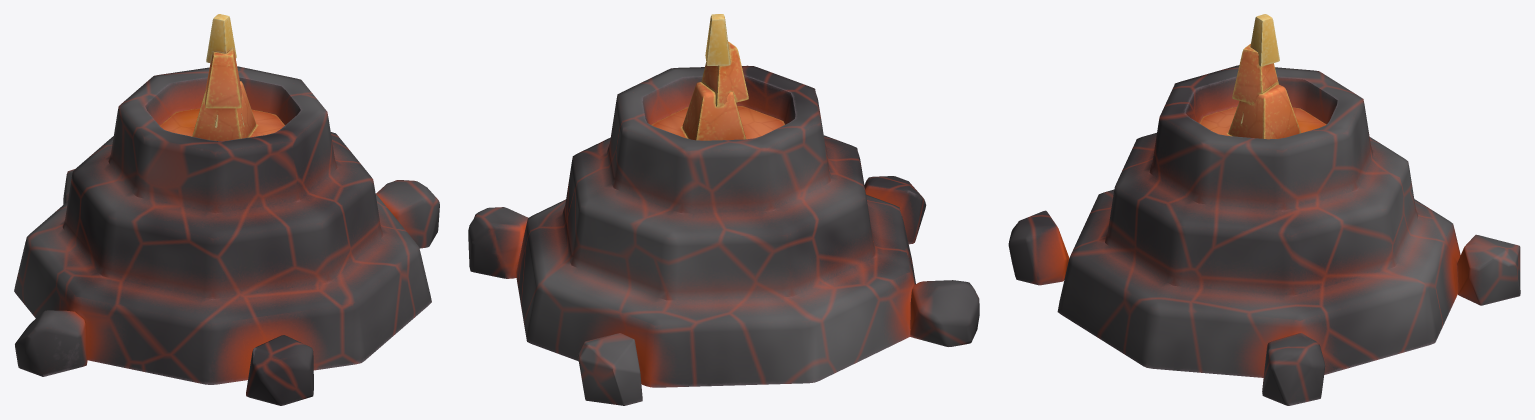
Rendered from Volcan_Cheminee.fbx.
The picture shows the model from 3 angles, left to right: view 1: azimuth 30°, elevation 25°; view 2: azimuth 150°, elevation 25°; view 3: azimuth 270°, elevation 25°; orthographic projection. The views are drawn at different scales.
Visible parts, largest first — view 1: Volcan_Cheminee; view 2: Volcan_Cheminee; view 3: Volcan_Cheminee.
Boxes of the visible parts, <box> form: Volcan_Cheminee: <box>14,14,439,405</box>; Volcan_Cheminee: <box>468,14,979,405</box>; Volcan_Cheminee: <box>1008,14,1520,405</box>.
Bounding box in the file's own units: 1144 × 675 × 1121.
1 material, 1 textured.
